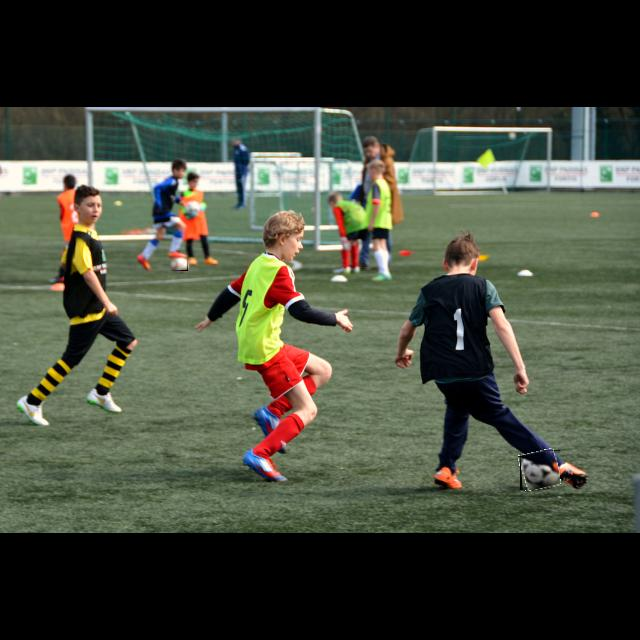Football: (520, 450, 560, 490), (168, 255, 188, 271)
